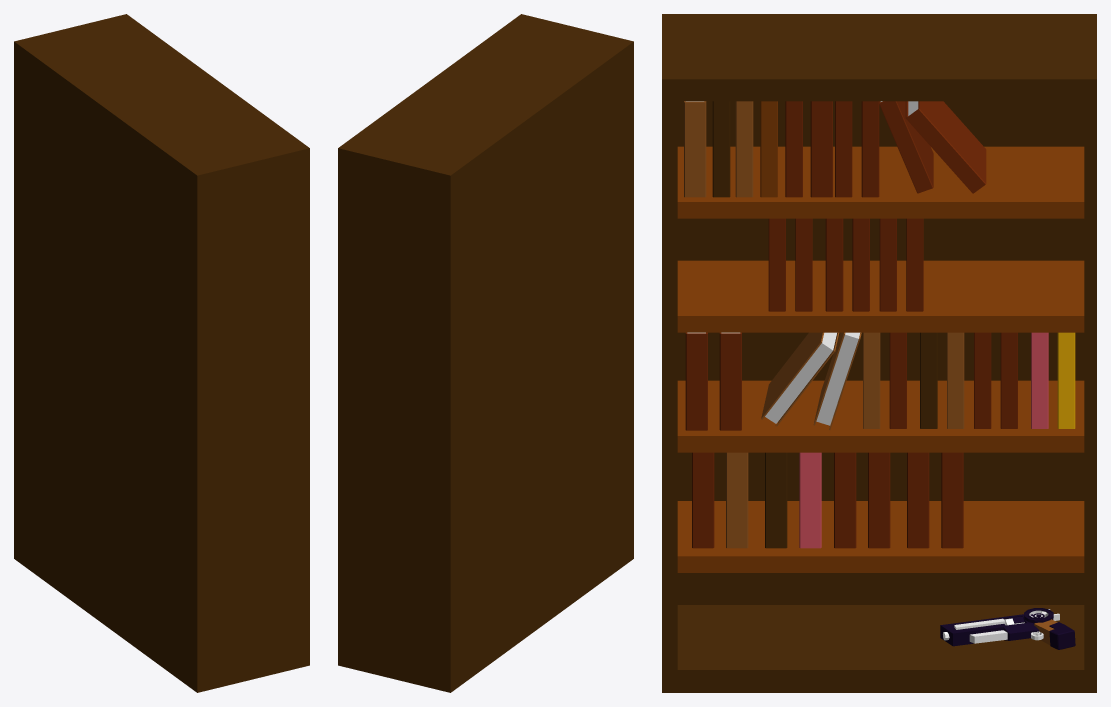
The model's file is Estante.fbx.
3 renders of one model, left to right at view 1: azimuth 30°, elevation 25°; view 2: azimuth 150°, elevation 25°; view 3: azimuth 270°, elevation 25°, orthographic. The views are drawn at different scales.
Parts seen in each view (by area): view 1: Cube.040; view 2: Cube.040; view 3: Cube.040.
Part boxes in pixels (x1,y1,x2,y2): Cube.040: [14, 14, 309, 692]; Cube.040: [338, 14, 633, 692]; Cube.040: [662, 14, 1096, 692].
Bounding box in the file's own units: 119 × 524 × 336.
